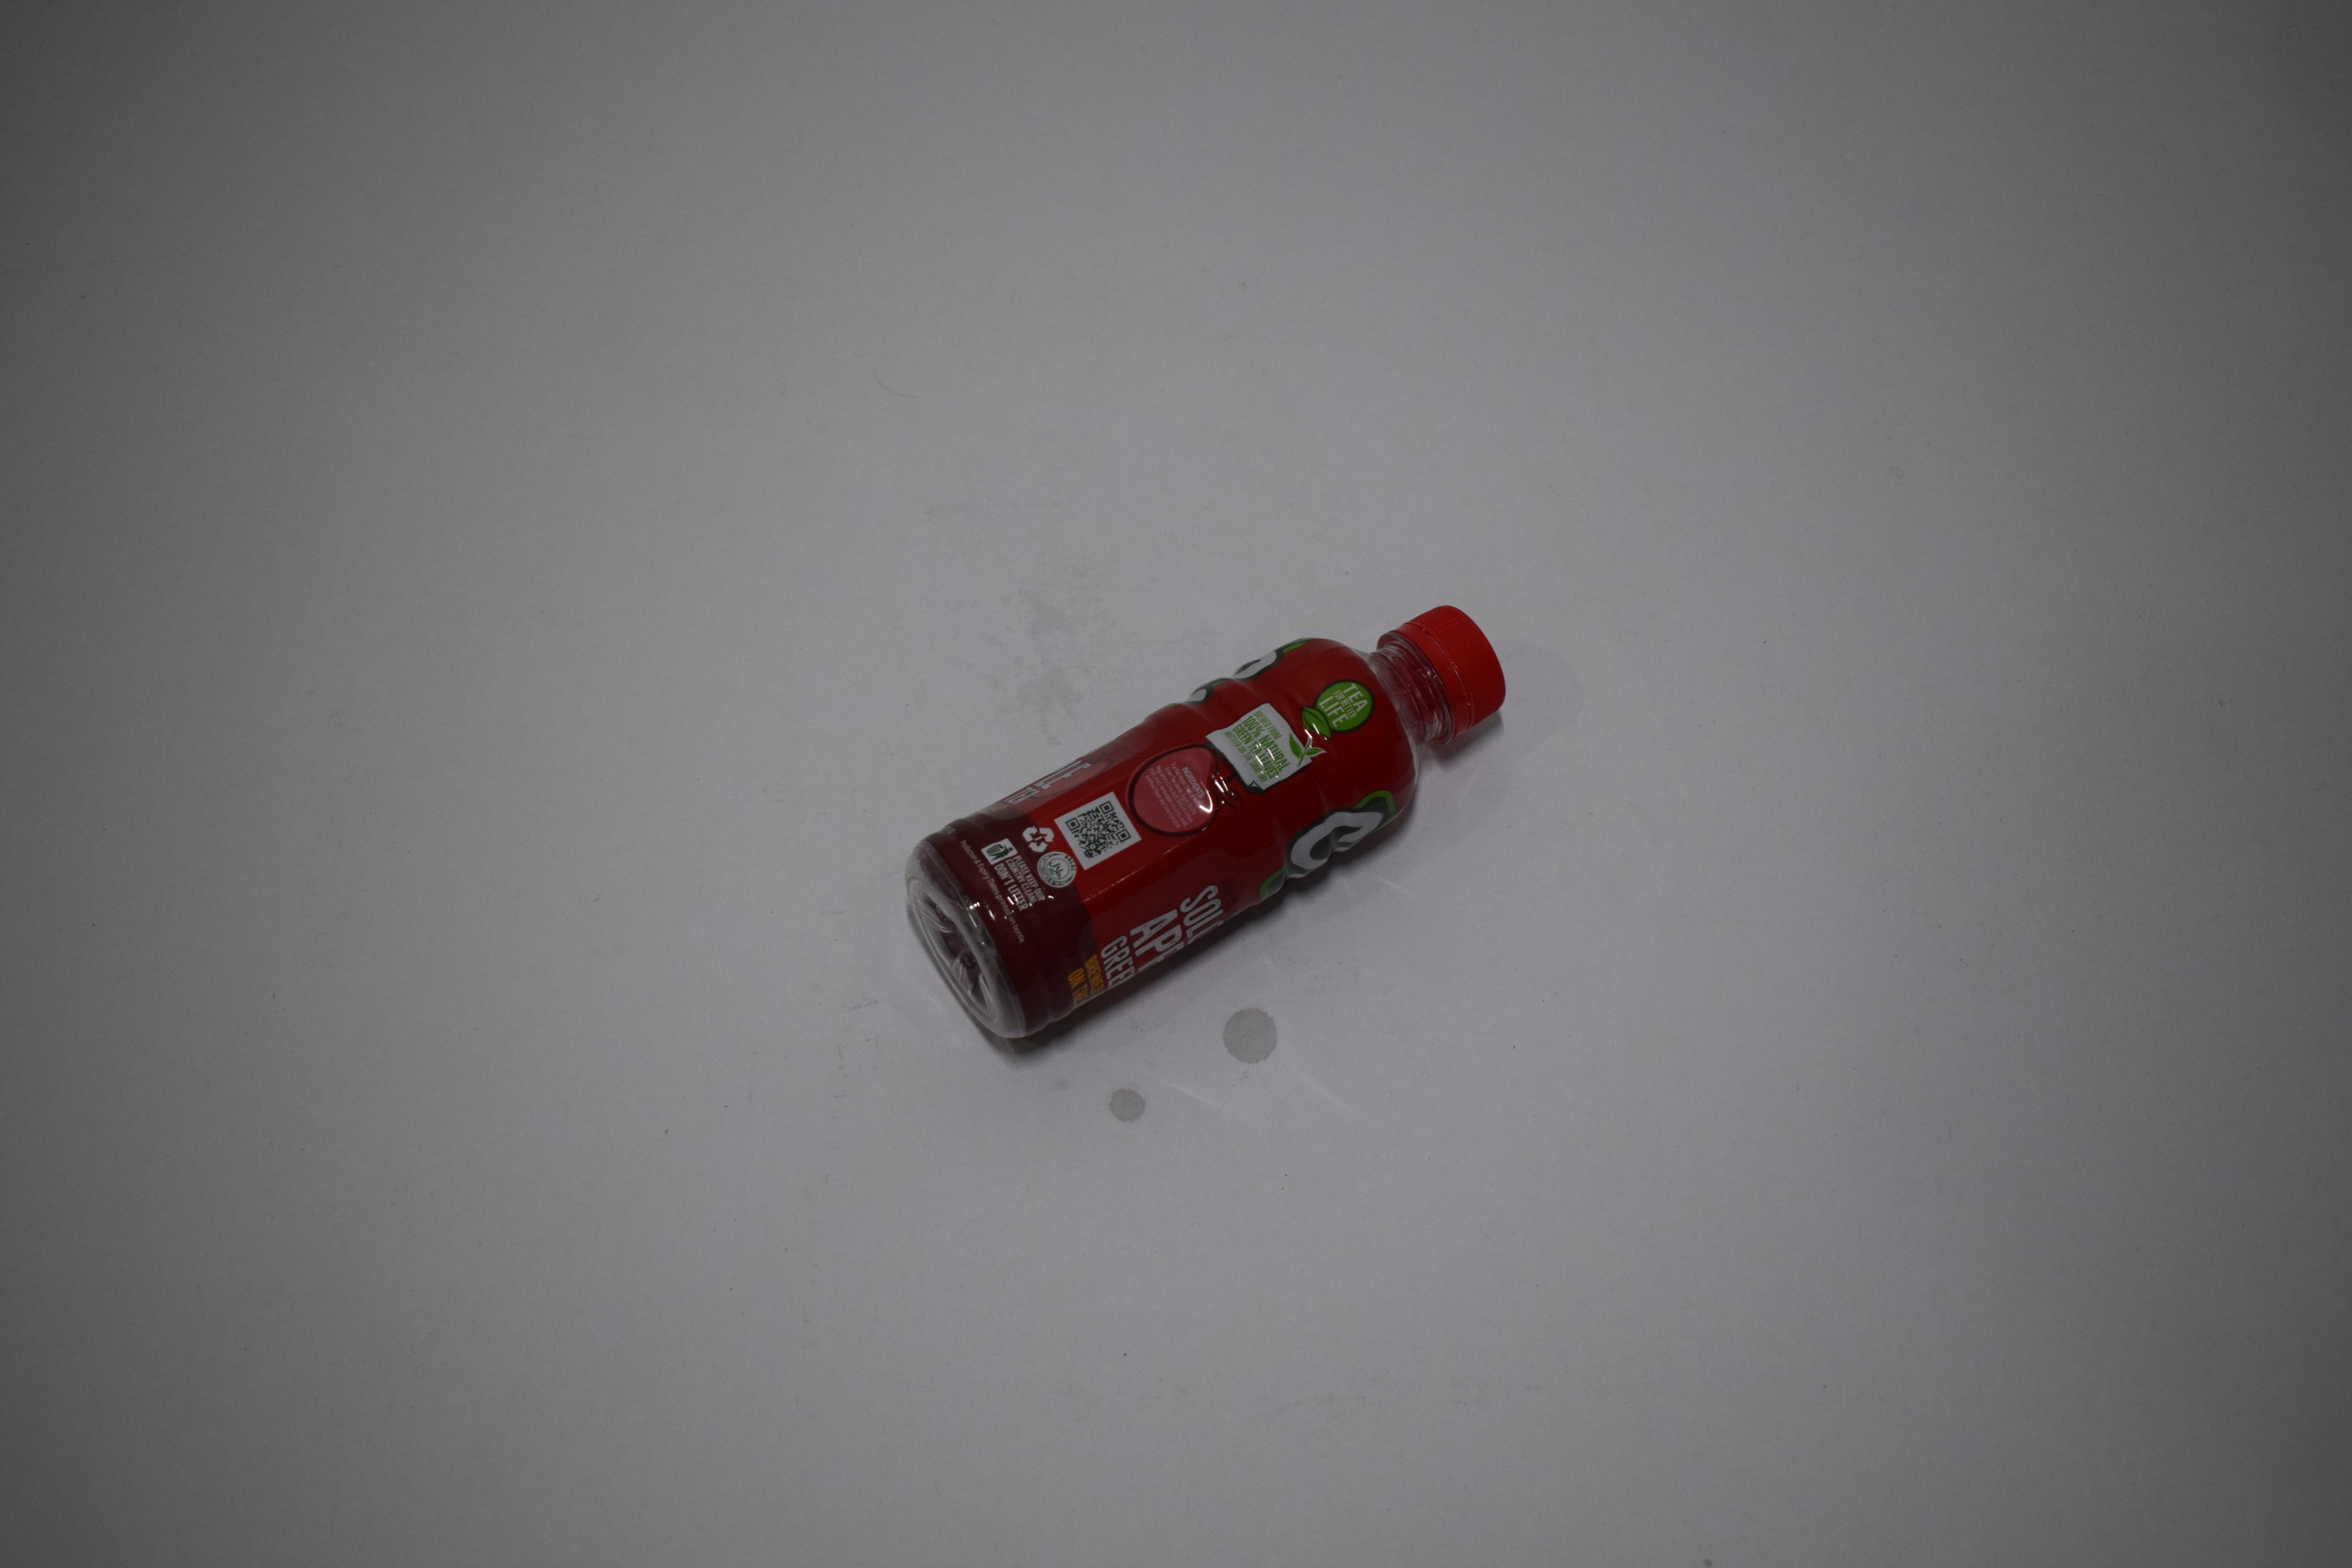bottle: (0, 0, 338, 269)
